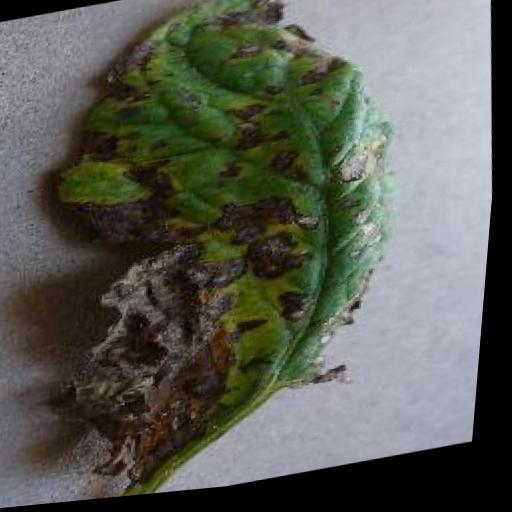Early Blight: (9, 0, 428, 509)
